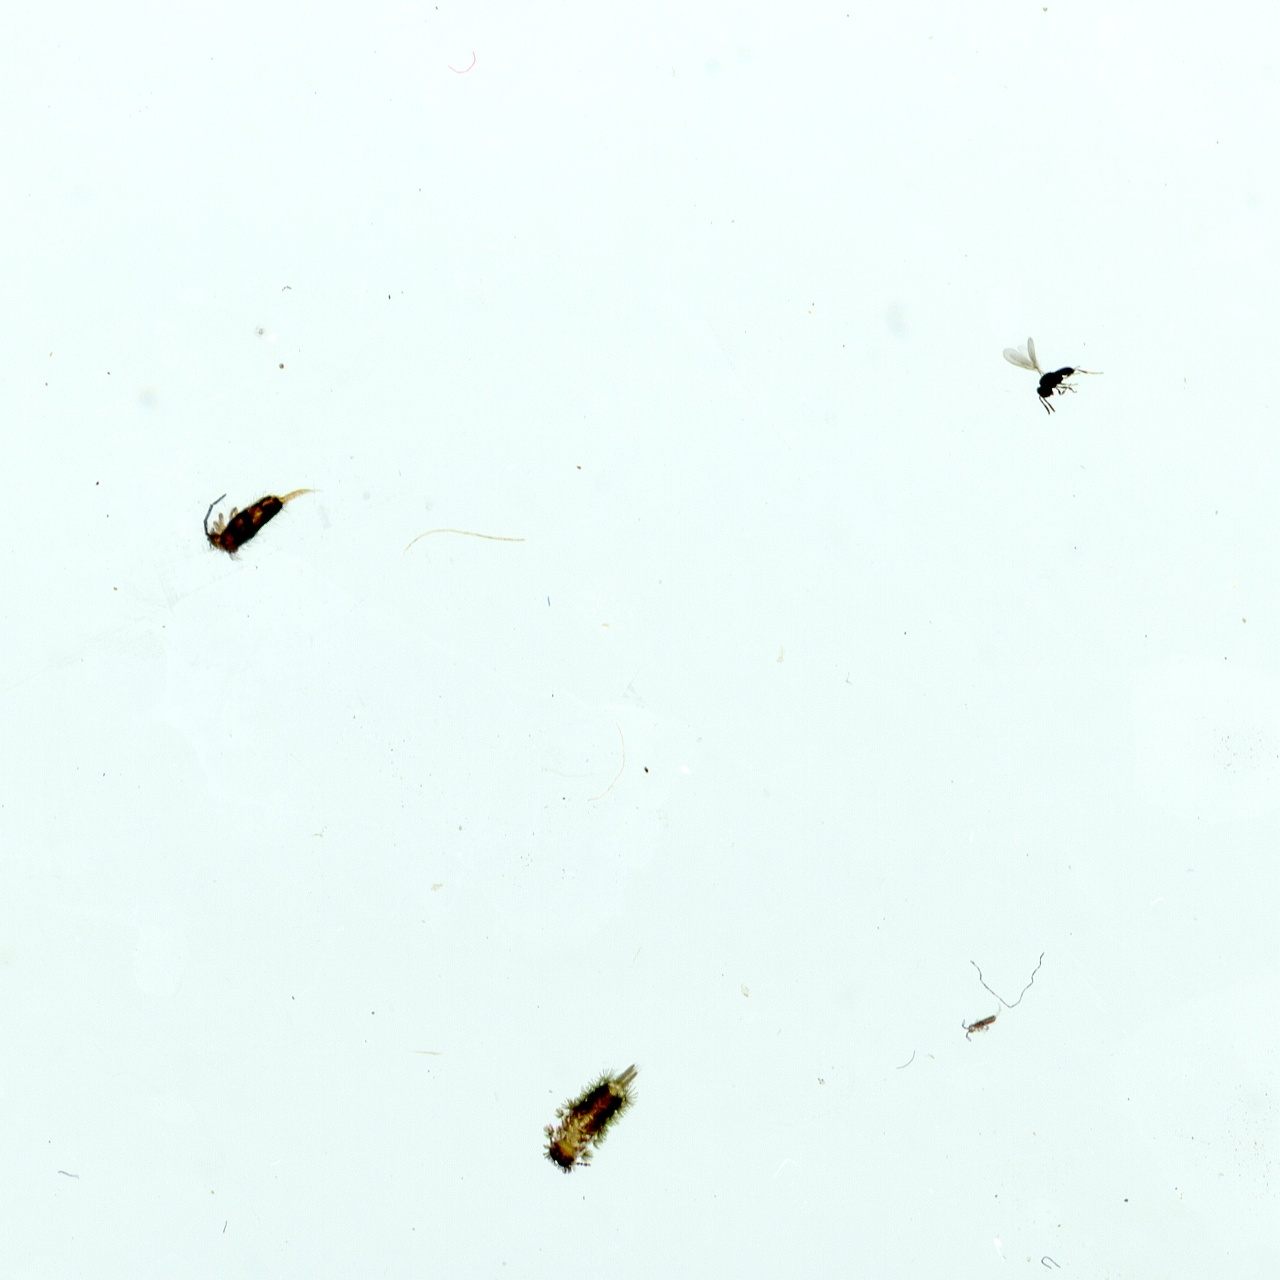arthropod: (544, 1058, 638, 1182), (195, 480, 318, 562), (998, 335, 1104, 410), (956, 1008, 1001, 1041)
